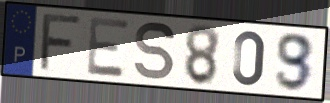0: (231, 29, 267, 88)
8: (183, 22, 222, 88)
9: (273, 31, 317, 94)
E: (85, 15, 132, 80)
F: (37, 13, 86, 74)
S: (133, 20, 178, 83)
